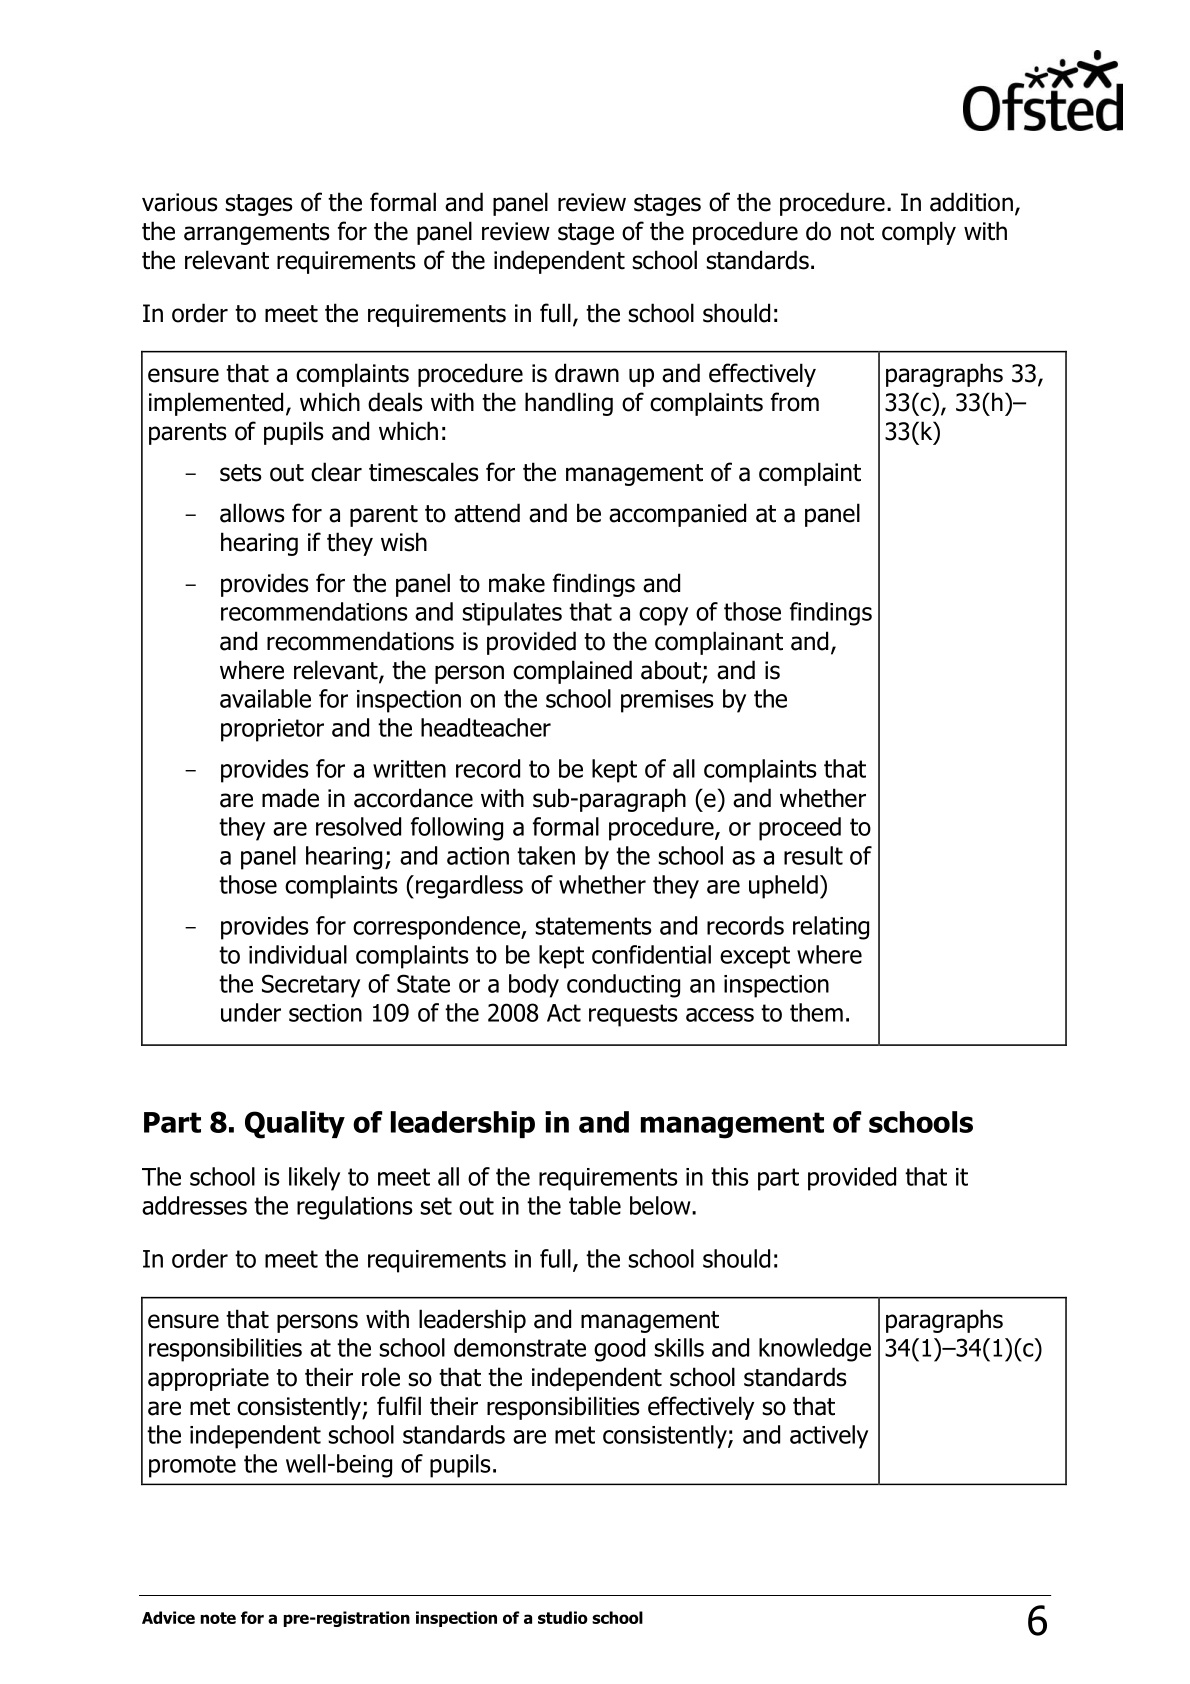full_lined: (113, 342, 1099, 1063), (137, 1289, 1081, 1502)
